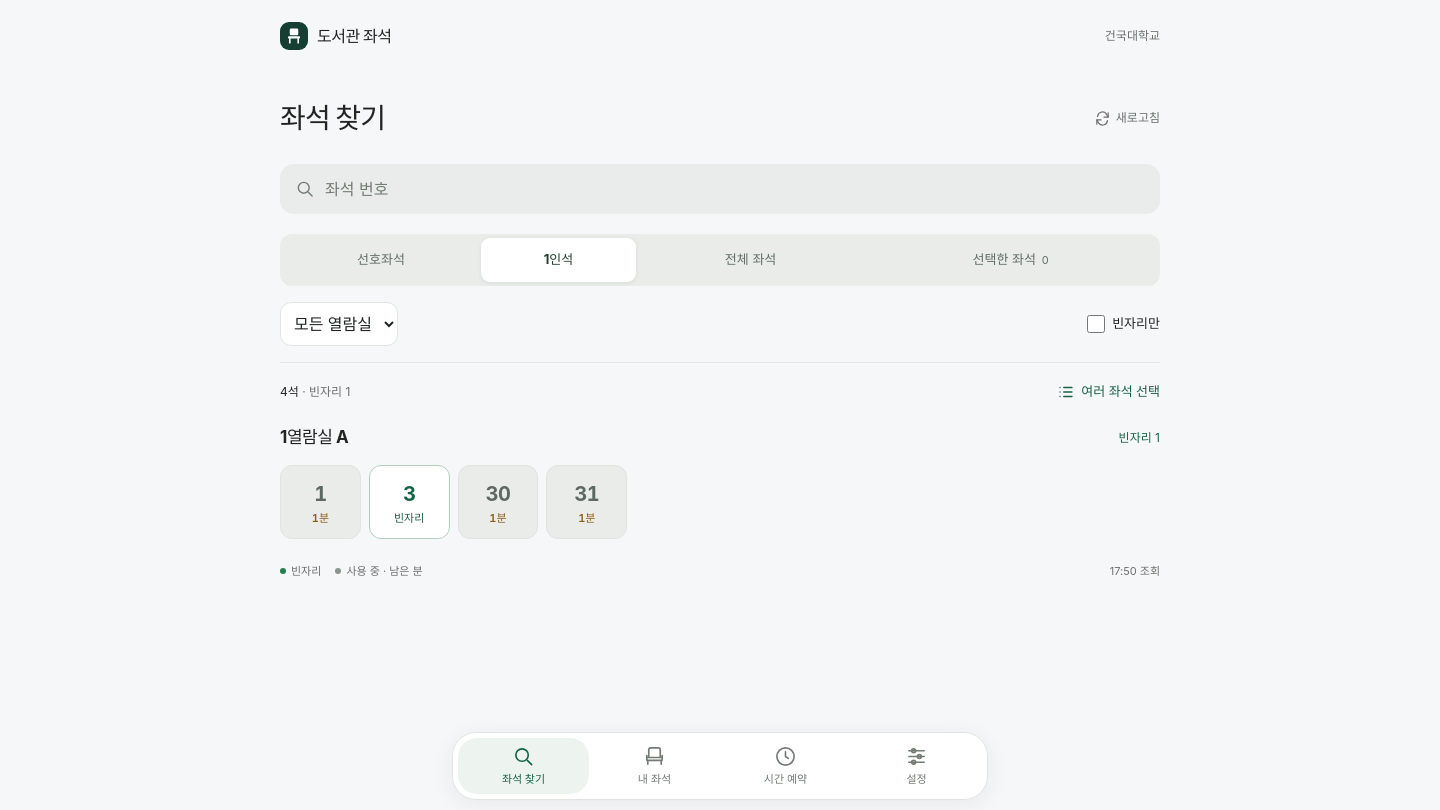
Test: React app with the existing account API › starts a one-seat wait from an occupied seat and closes the sheet
The width and height of the screenshot is (1440, 810).
expect the heading "좌석 찾기" is shown: met, box [280,100,385,136]
Click the button "전체 좌석" at [751, 260], box [639,238,862,282]
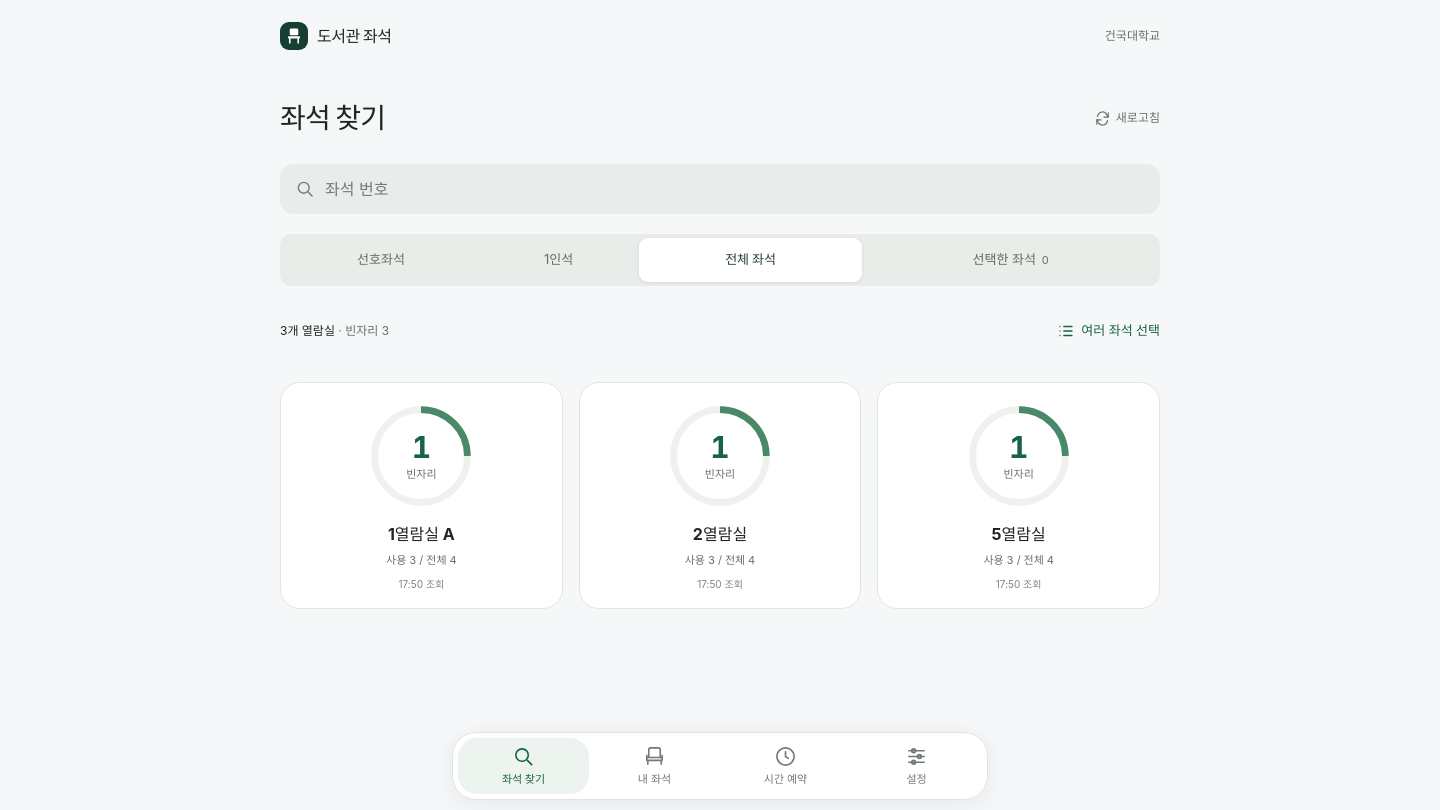
Type "열람실" into the search field at [740, 189], box [325,164,1154,214]
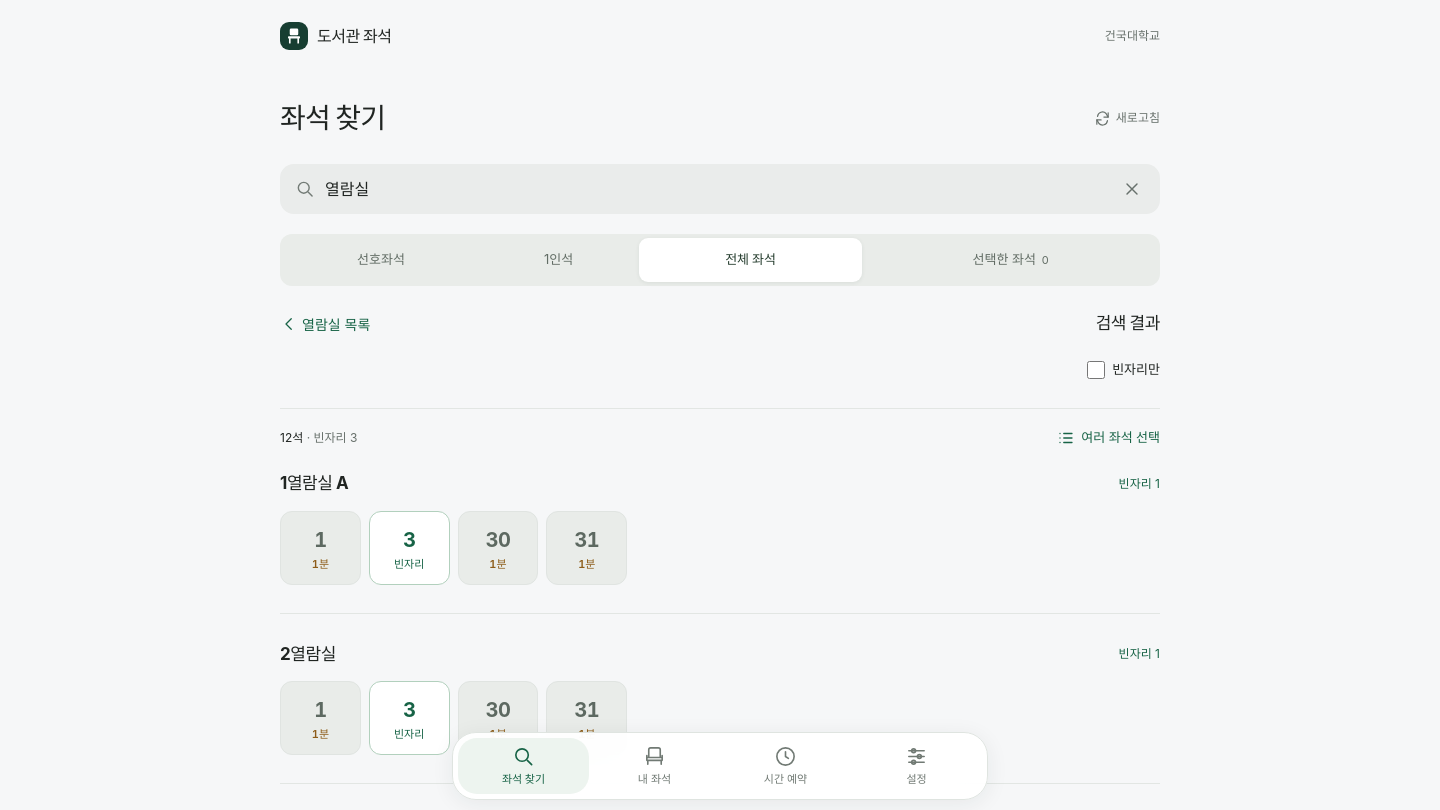
Click the button named "2열람실 31번 1분 상세 보기" at [587, 718], box [546,681,627,755]
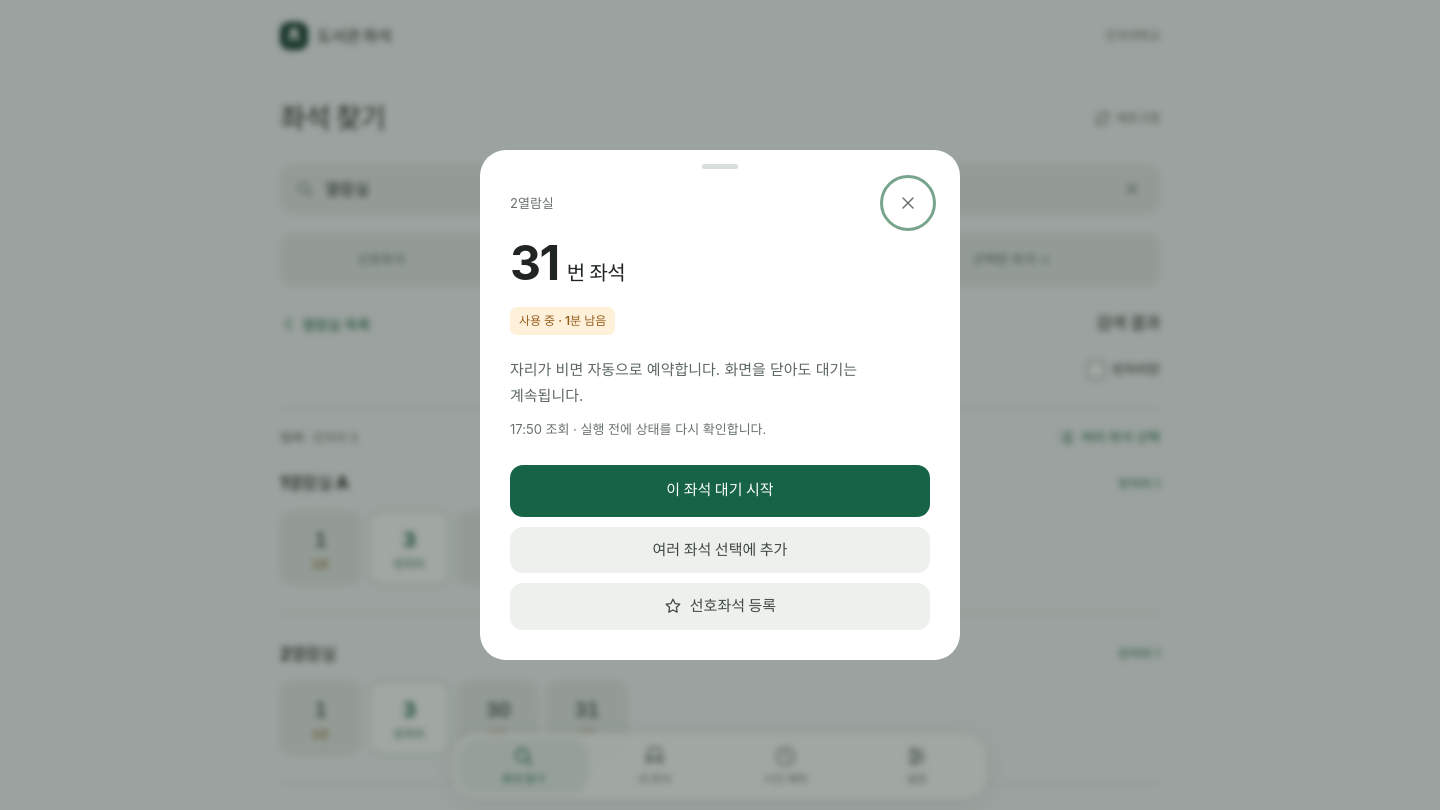
Click the button "이 좌석 대기 시작" at [720, 491], box [510,465,930,517]
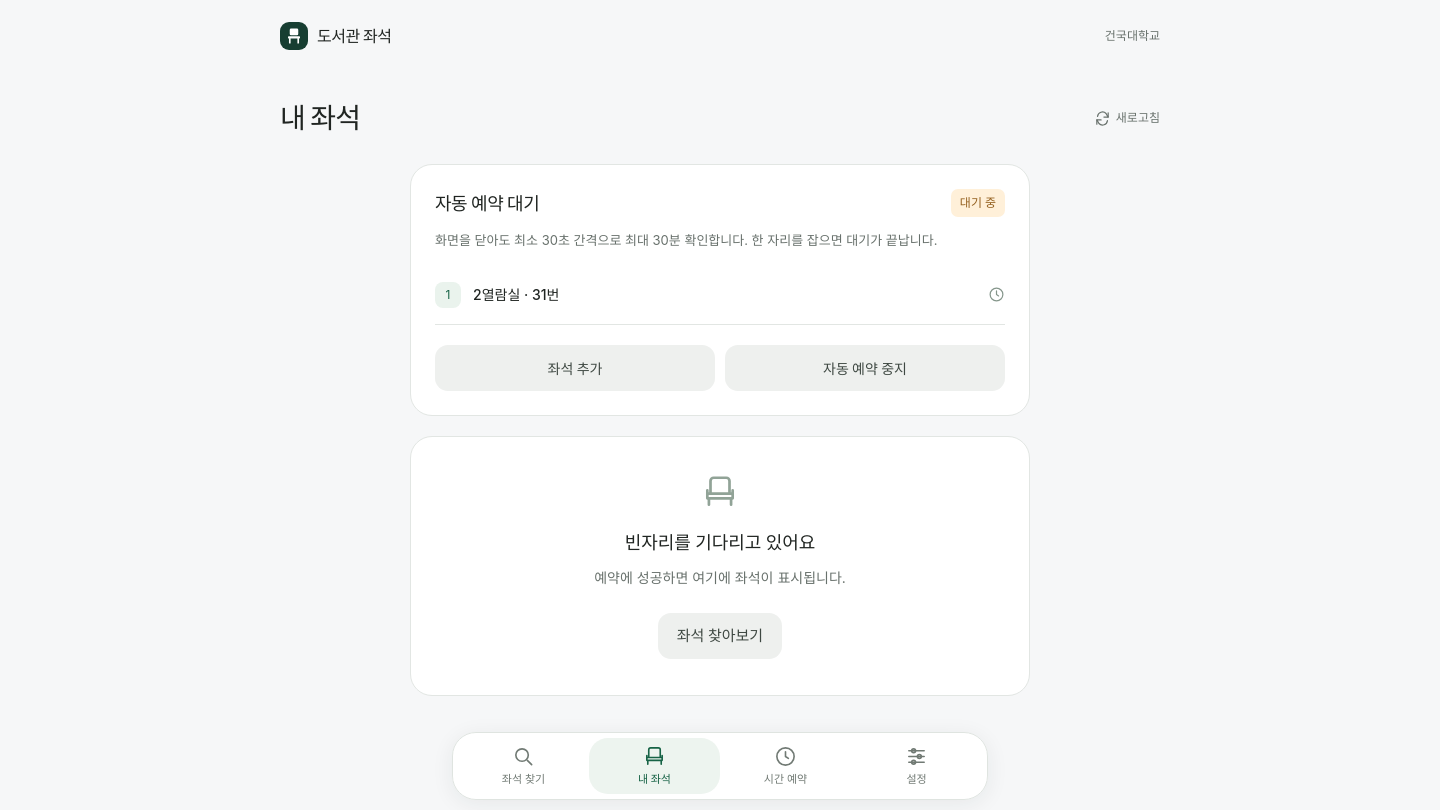
expect the button "자동 예약 중지" is shown: met, box [725,345,1005,391]
expect the dialog is gone: met
